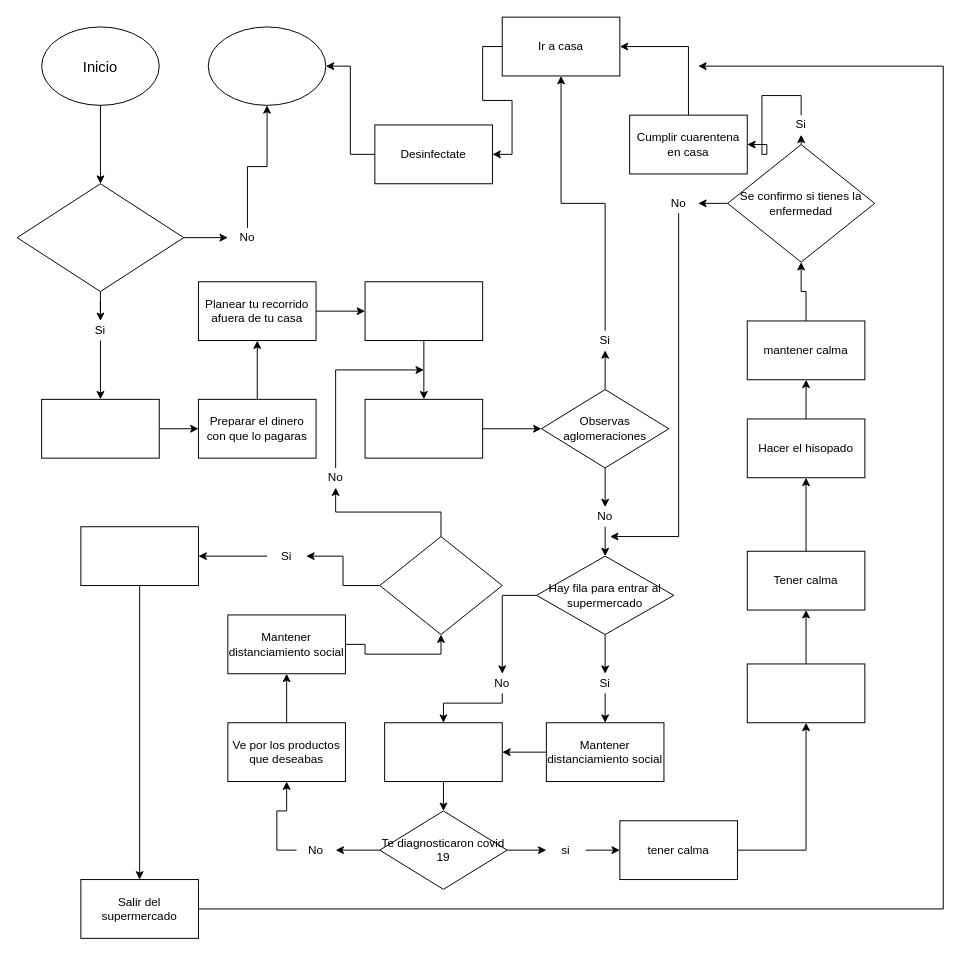
Some shapes in this 968 by 956 pixel diagram are drawn without their labels. Here are the shapes that lost their labels. From the top down, the centre of each, then its label:
At pixel 266 65: "Fin".
At pixel 100 237: "De verdad es necesario el producto".
At pixel 423 311: "Llevar mascarrilla".
At pixel 100 428: "Visualizar lo que necesitas".
At pixel 423 428: "Ir al supermercado donde esta el producto".
At pixel 139 556: "Ir a pagar a la caja".
At pixel 440 585: "Encontraste todo lo que deseabas".
At pixel 805 693: "Dejar todo a las autoridades de la ciudad".
At pixel 443 752: "Pasar por los parámetros sanitarios del supermercado".
